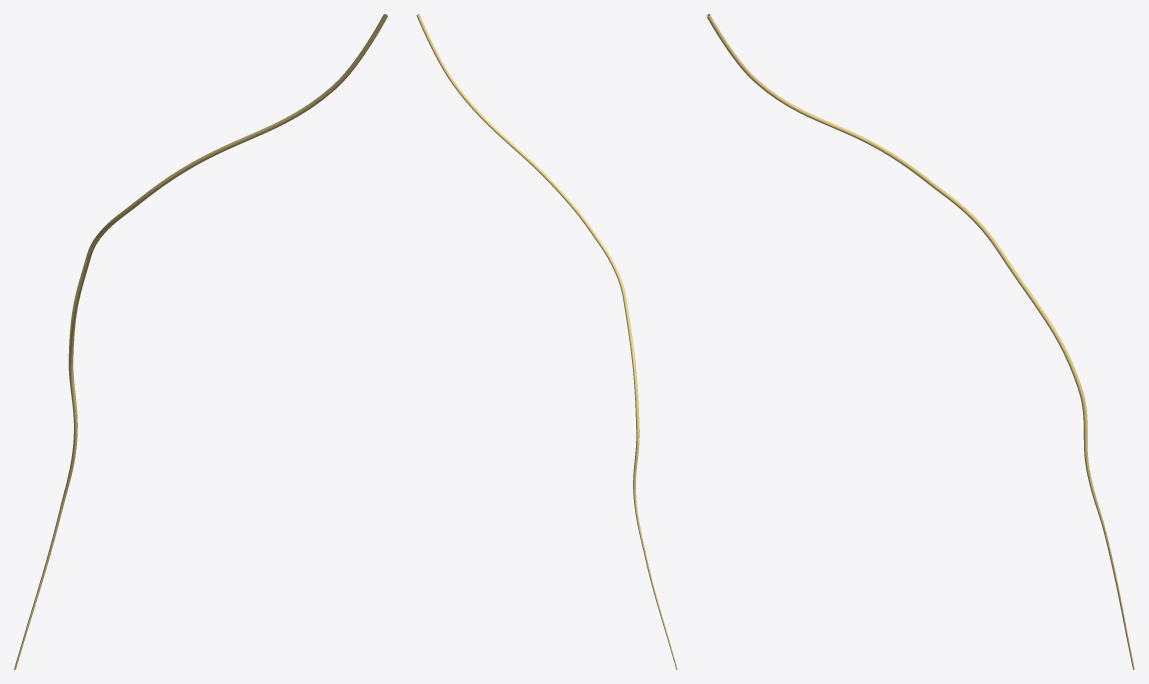
The picture shows the model from 3 angles, left to right: view 1: azimuth 30°, elevation 25°; view 2: azimuth 210°, elevation 25°; view 3: azimuth 270°, elevation 25°; orthographic projection. The views are drawn at different scales.
Visible parts, largest first — view 1: ZA_b0aa8ad1e3e666b1; view 2: ZA_b0aa8ad1e3e666b1; view 3: ZA_b0aa8ad1e3e666b1.
Part boxes in pixels (x1,y1,x2,y2): ZA_b0aa8ad1e3e666b1: [14, 14, 387, 669]; ZA_b0aa8ad1e3e666b1: [416, 14, 677, 669]; ZA_b0aa8ad1e3e666b1: [706, 14, 1134, 669].
Bounding box in the file's own units: 0.0332 × 0.1789 × 0.0974.
